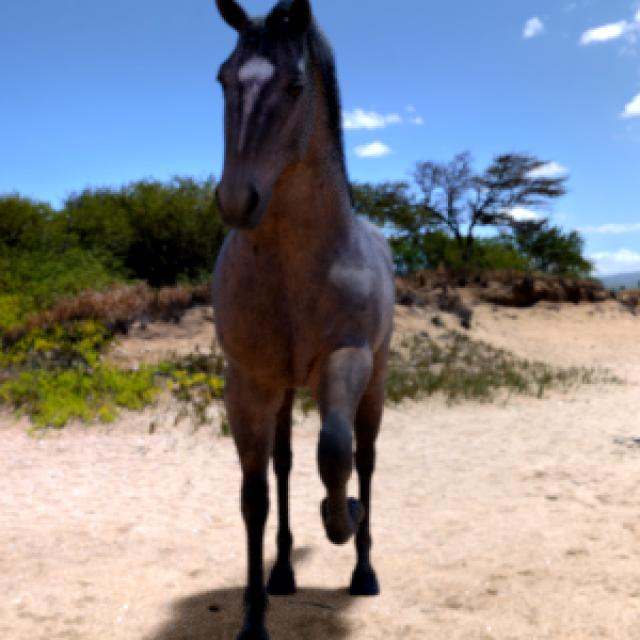horse: (212, 0, 392, 639)
